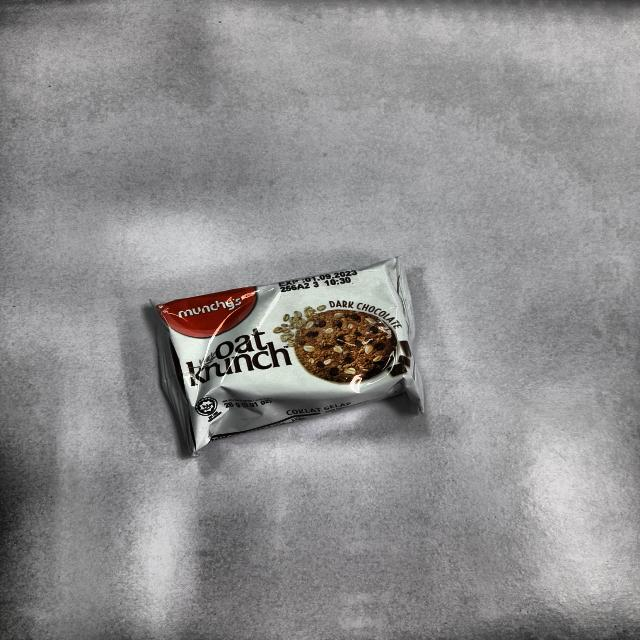Plastic: (163, 259, 425, 446)
